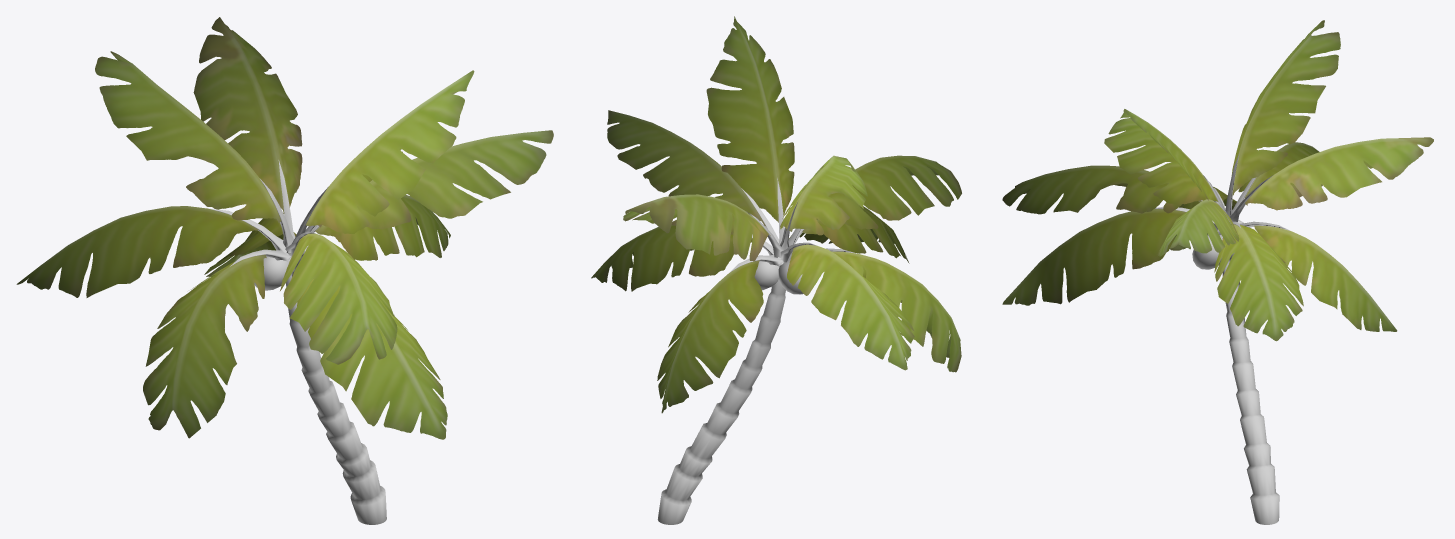
The model's file is palm3_lod0.fbx.
3 views of the same model, side by side, from view 1: azimuth 30°, elevation 25°; view 2: azimuth 150°, elevation 25°; view 3: azimuth 270°, elevation 25° (orthographic). The views are drawn at different scales.
Parts seen in each view (by area): view 1: Tree_2_Tree_2Mat_0.001; view 2: Tree_2_Tree_2Mat_0.001; view 3: Tree_2_Tree_2Mat_0.001.
Part boxes in pixels (x1,y1,x2,y2): Tree_2_Tree_2Mat_0.001: (16,17,553,524); Tree_2_Tree_2Mat_0.001: (591,16,961,524); Tree_2_Tree_2Mat_0.001: (1002,20,1433,524).
Bounding box in the file's own units: 426 × 462 × 444.
